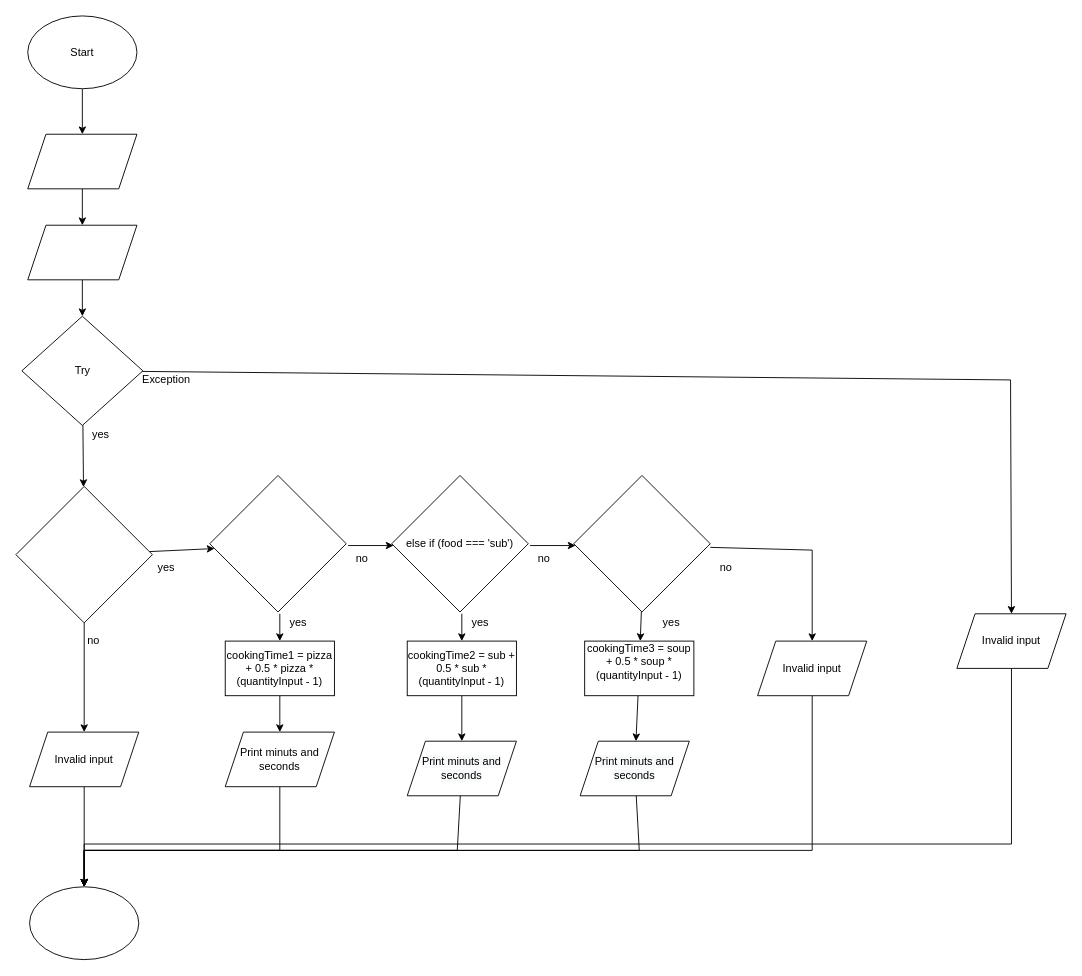
This 1082x976 diagram has some shape labels left out. The shapes that lost their labels are listed below. From the top down, each one's centre as x and y in pixels, then its label:
point 82,161: Get food
point 82,252: Get num item
point 83,554: If num item < 3 & > 1
point 277,543: if (food === 'pizza')
point 641,543: else if (food === 'soup')
point 84,923: Stop
